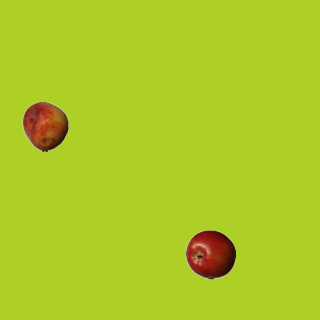Apple Braeburn: (185, 229, 235, 279)
Peach: (20, 101, 70, 151)
